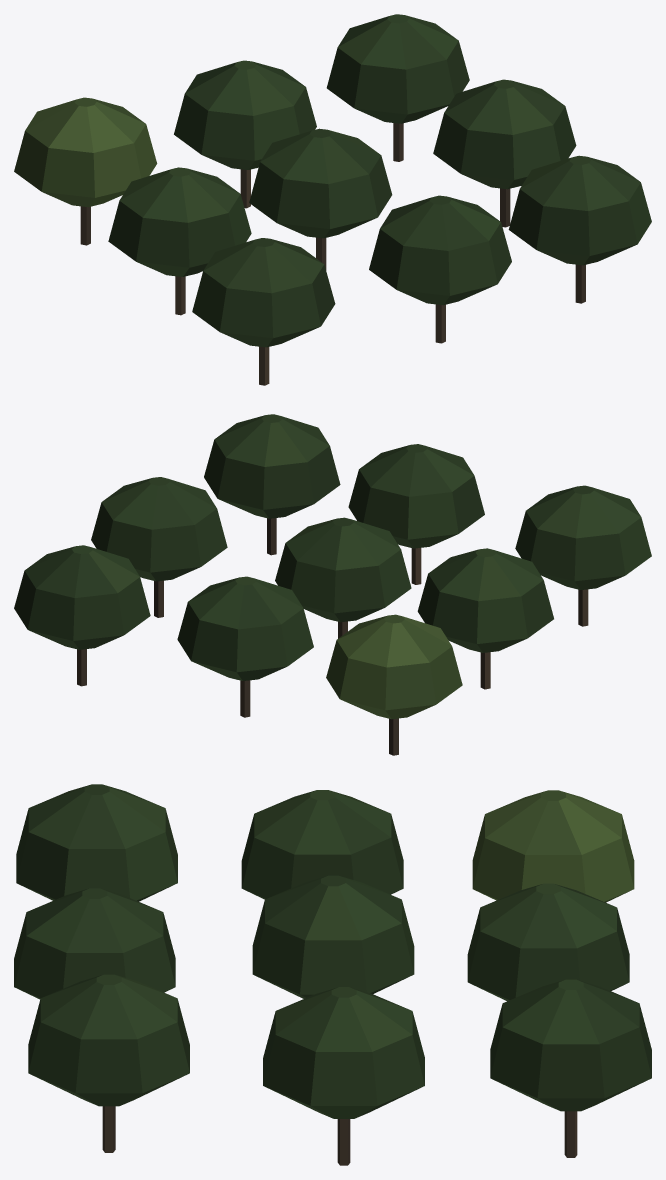
Rendered from yard_orchard.glb.
3 renders of one model, top to bottom at view 1: azimuth 30°, elevation 25°; view 2: azimuth 150°, elevation 25°; view 3: azimuth 270°, elevation 25°, orthographic. The views are drawn at different scales.
Visible parts, largest first — view 1: yard_orchard; view 2: yard_orchard; view 3: yard_orchard.
Boxes of the visible parts, box(x1,y1,x2,y2) form: yard_orchard: box(14, 14, 651, 385); yard_orchard: box(14, 414, 651, 755); yard_orchard: box(14, 784, 651, 1165).
Size of the model in its own units: 9.53 by 2.8 by 9.47.
1 material, 1 textured.
